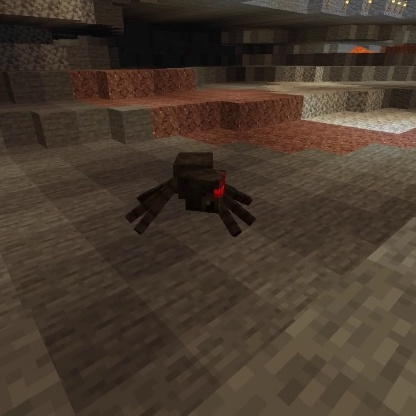spider: (121, 149, 258, 238)
